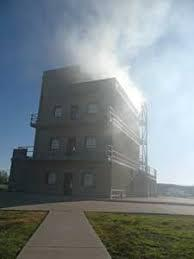smoke: (23, 0, 194, 169)
